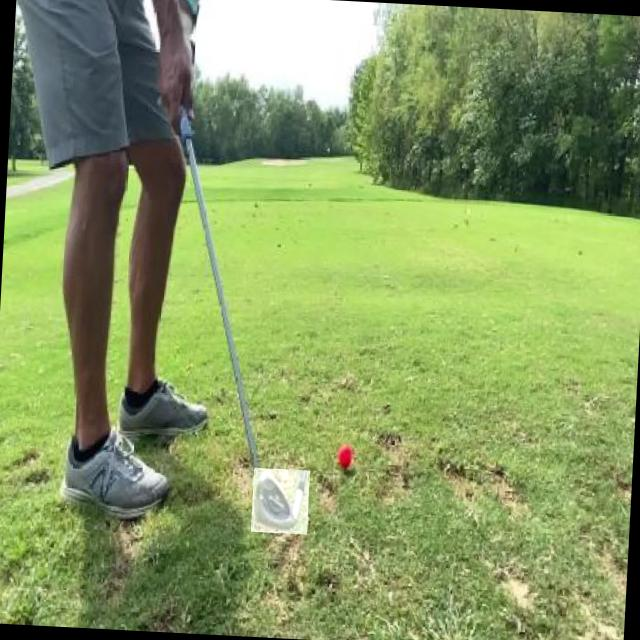club head: (251, 468, 310, 534)
